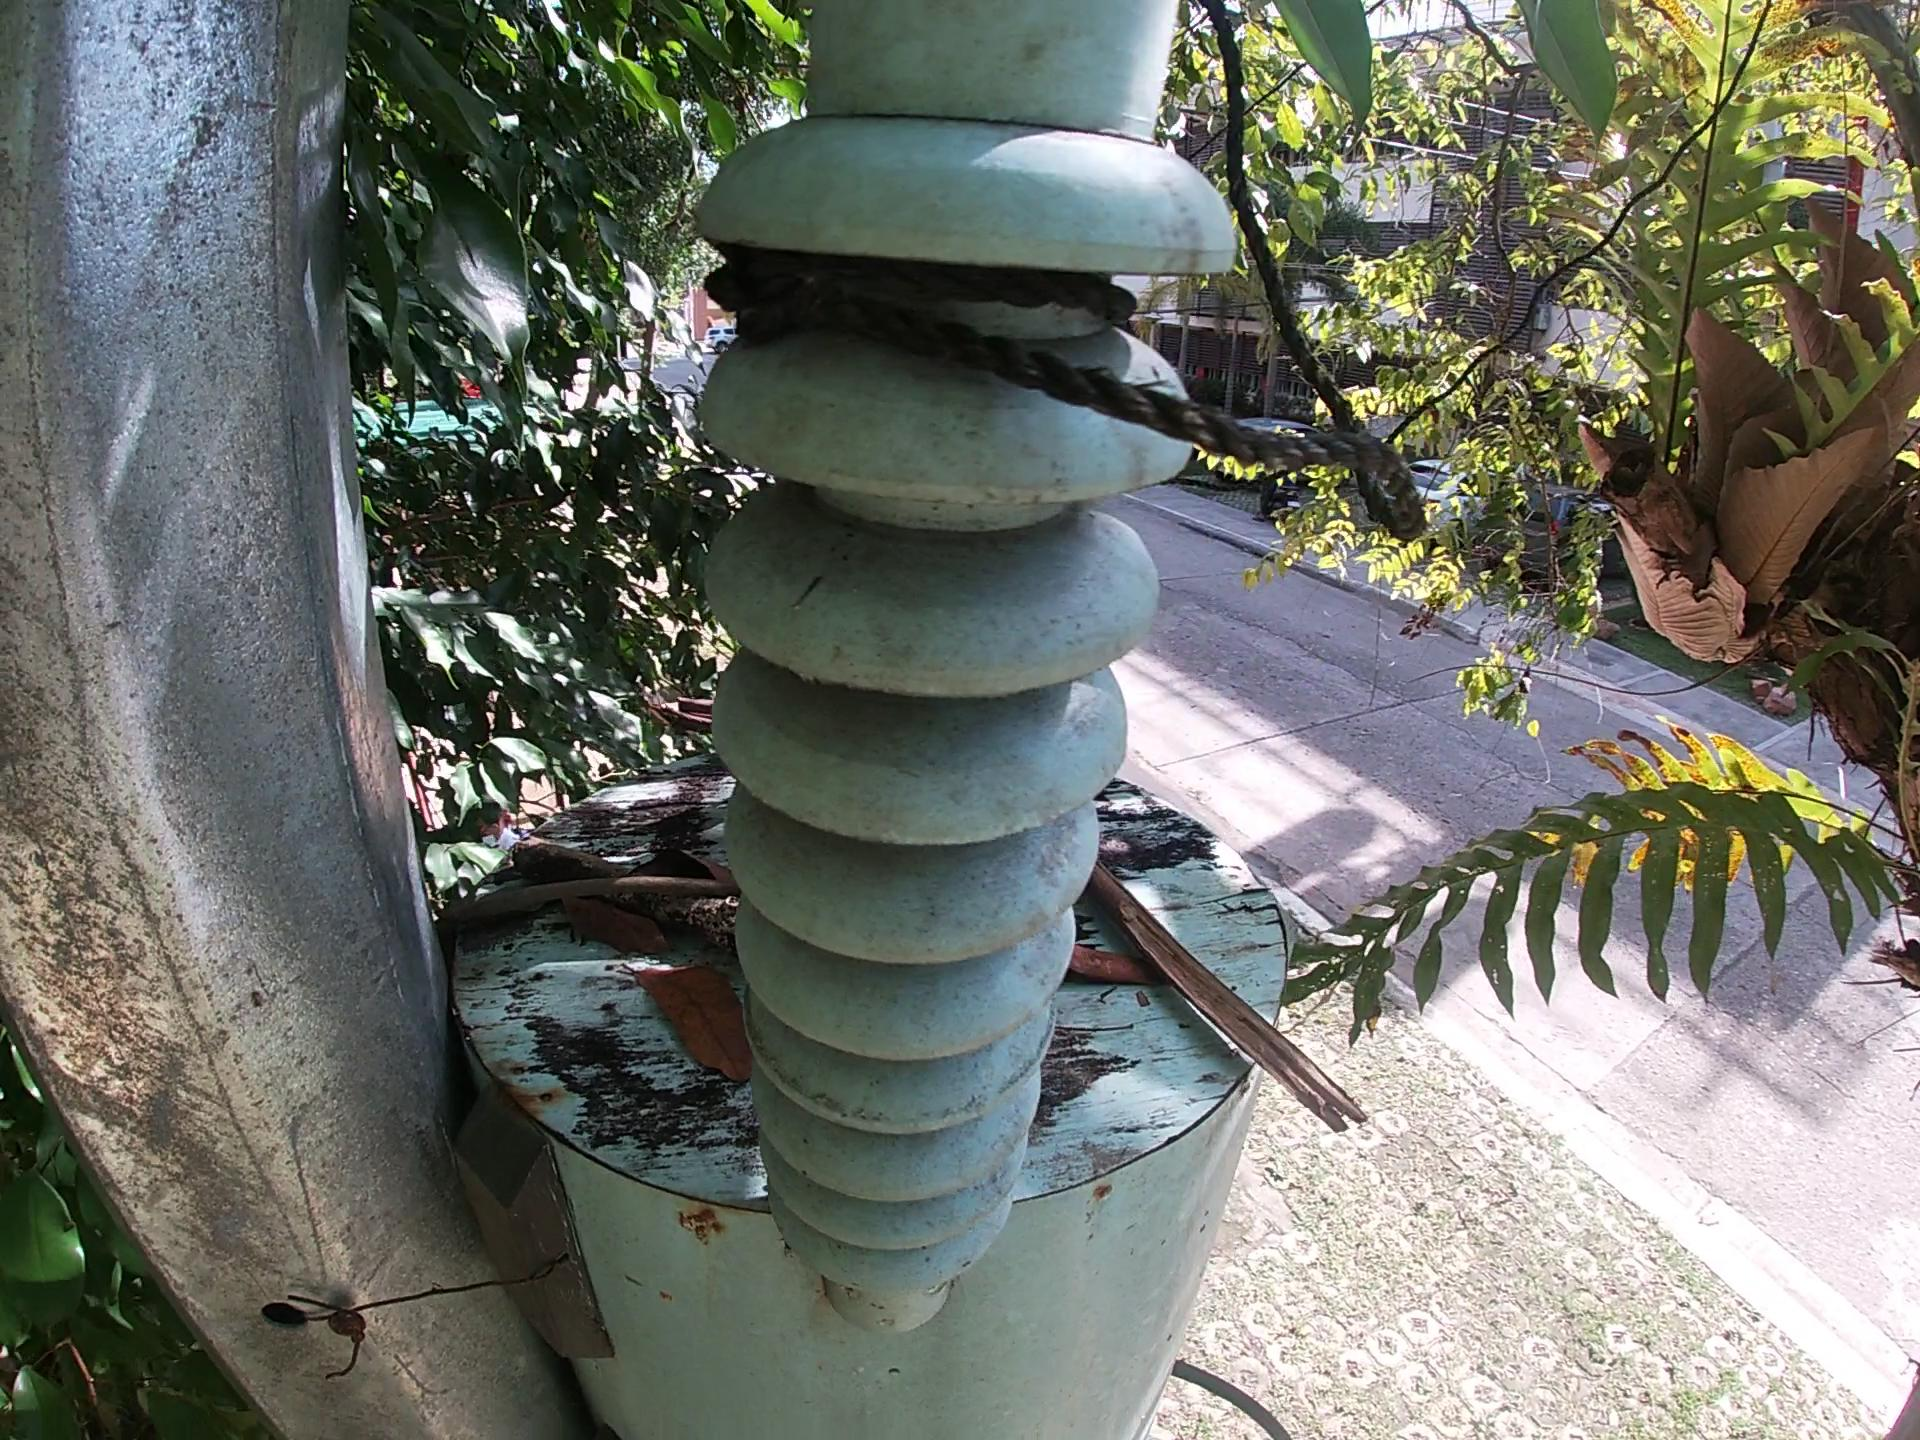leaf: (615, 948, 754, 1091), (556, 895, 674, 954), (621, 844, 736, 883)
mahogany fruit: (1064, 939, 1163, 989)
tree branch: (1089, 856, 1367, 1142), (506, 833, 742, 948), (434, 873, 739, 930), (658, 696, 729, 737)
